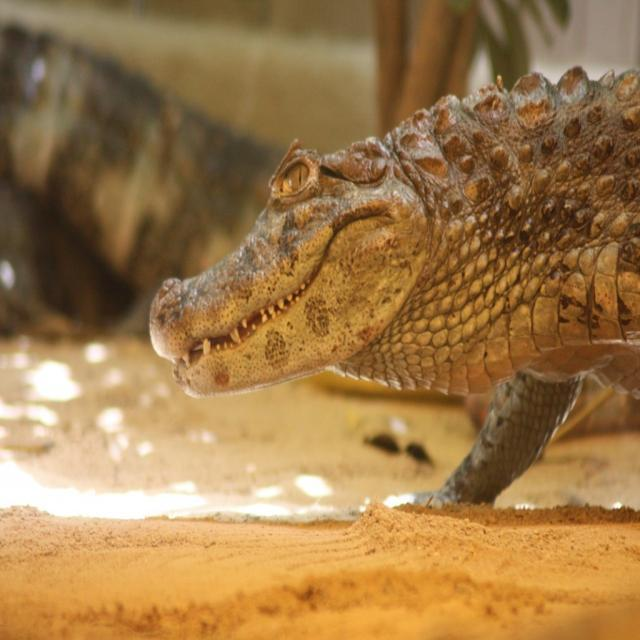crocodile: (108, 47, 639, 564)
